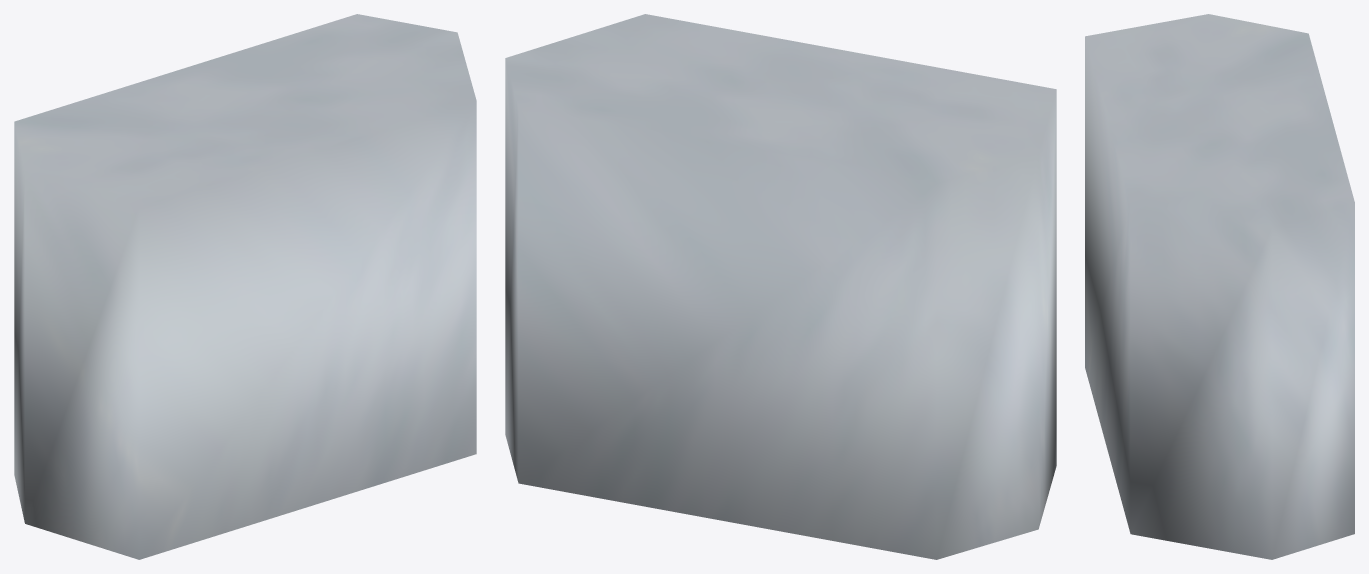
File: Rock_18_Snow.fbx
3 views of the same model, side by side, from view 1: azimuth 30°, elevation 25°; view 2: azimuth 150°, elevation 25°; view 3: azimuth 270°, elevation 25° (orthographic). The views are drawn at different scales.
Parts seen in each view (by area): view 1: Rock_18_Snow; view 2: Rock_18_Snow; view 3: Rock_18_Snow.
Boxes of the visible parts, x1,y1,x2,y2 form: Rock_18_Snow: [14, 14, 476, 559]; Rock_18_Snow: [505, 14, 1056, 559]; Rock_18_Snow: [1085, 14, 1354, 559].
Bounding box in the file's own units: 37.37 × 27.02 × 19.9.
